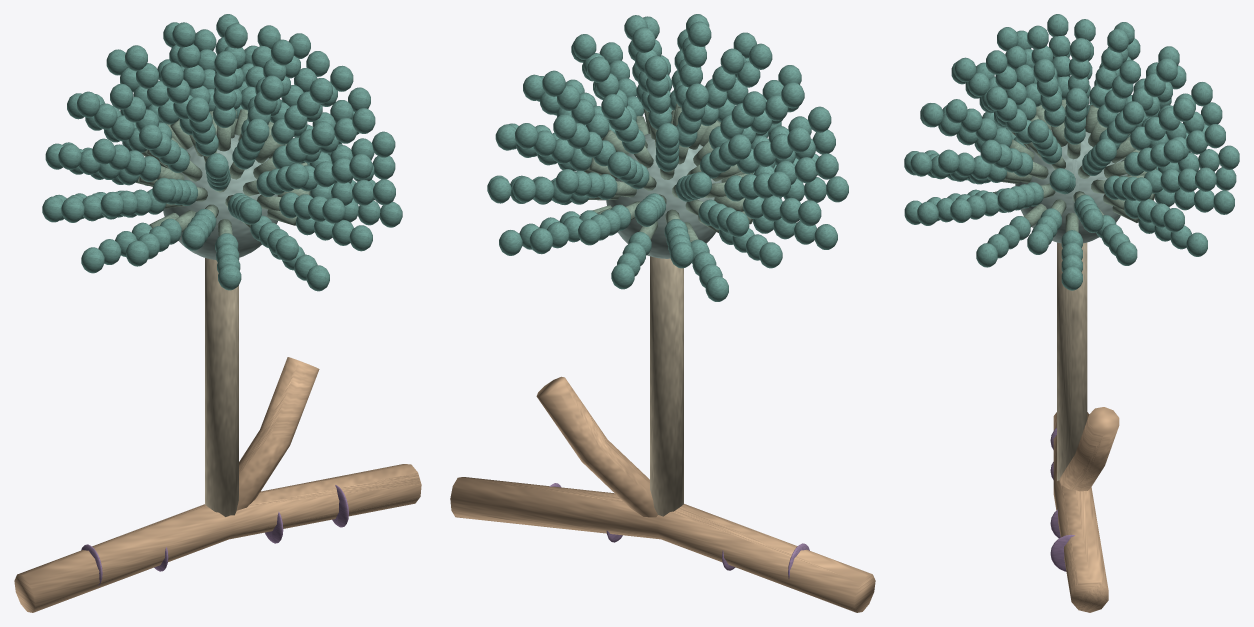
Rendered from complete.glb.
3 renders of one model, left to right at view 1: azimuth 30°, elevation 25°; view 2: azimuth 150°, elevation 25°; view 3: azimuth 270°, elevation 25°, orthographic. The views are drawn at different scales.
Visible parts, largest first — view 1: conidios_mesh, hifas_mesh, conidioforo_mesh, fialides_mesh, vesicula_mesh, septos_mesh; view 2: conidios_mesh, hifas_mesh, conidioforo_mesh, fialides_mesh, vesicula_mesh; view 3: conidios_mesh, hifas_mesh, conidioforo_mesh, fialides_mesh, vesicula_mesh, septos_mesh.
Boxes of the visible parts, box(x1,y1,x2,y2) form: conidios_mesh: box(42, 14, 402, 291); hifas_mesh: box(14, 357, 421, 612); conidioforo_mesh: box(205, 258, 238, 516); fialides_mesh: box(136, 109, 310, 236); vesicula_mesh: box(163, 133, 277, 259); septos_mesh: box(81, 485, 348, 585); conidios_mesh: box(487, 14, 848, 301); hifas_mesh: box(450, 376, 875, 612); conidioforo_mesh: box(650, 256, 683, 516); fialides_mesh: box(580, 103, 753, 242); vesicula_mesh: box(606, 134, 721, 258); conidios_mesh: box(904, 14, 1239, 290); hifas_mesh: box(1053, 407, 1119, 612); conidioforo_mesh: box(1057, 242, 1087, 480); fialides_mesh: box(988, 99, 1156, 232); vesicula_mesh: box(1015, 129, 1127, 243); septos_mesh: box(1050, 428, 1074, 571).
Size of the model in its own units: 2.43 by 3.1 by 1.89.
Materials: 6 (6 with a texture image).
